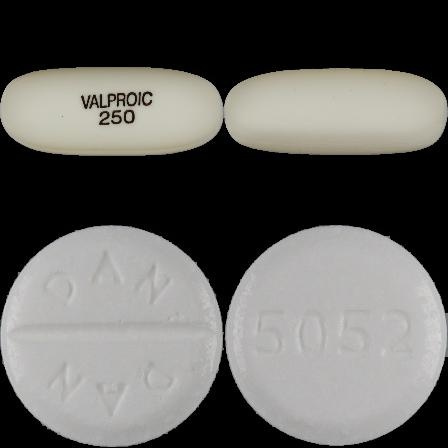0591-4012: (0, 0, 224, 224)
